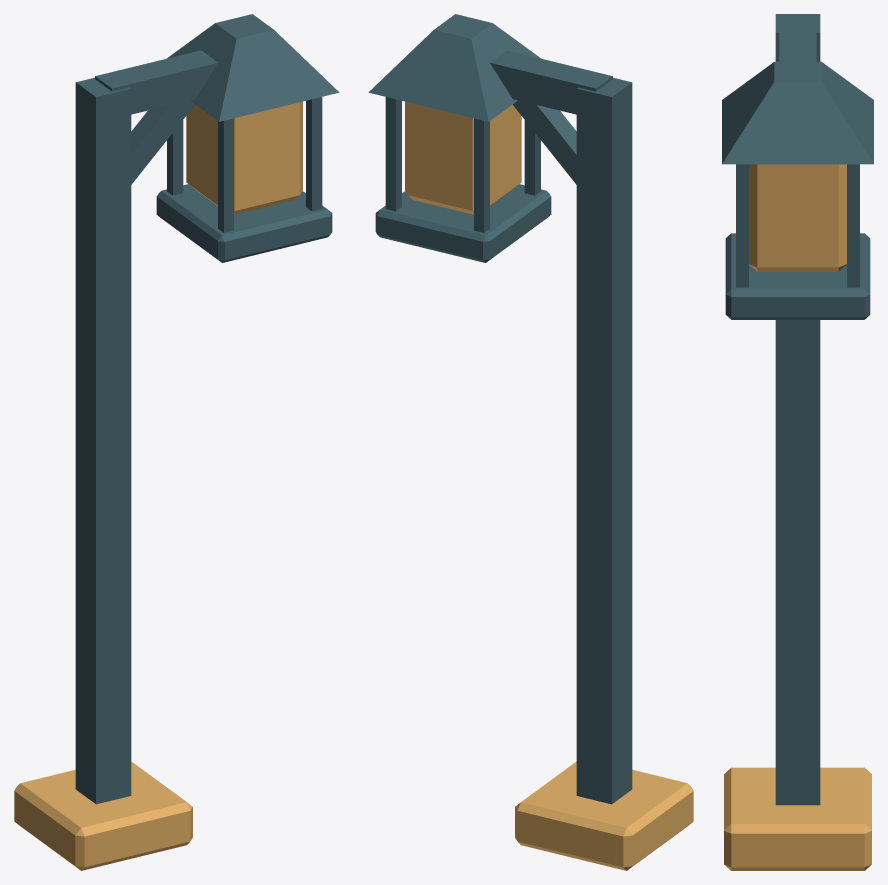
The model's file is AC_Street_Lantern.glb.
3 renders of one model, left to right at view 1: azimuth 30°, elevation 25°; view 2: azimuth 150°, elevation 25°; view 3: azimuth 270°, elevation 25°, orthographic. The views are drawn at different scales.
Parts seen in each view (by area): view 1: AC_Street_Lantern; view 2: AC_Street_Lantern; view 3: AC_Street_Lantern.
Boxes of the visible parts, x1=… form: AC_Street_Lantern: x1=14, y1=14, x2=339, y2=870; AC_Street_Lantern: x1=368, y1=14, x2=693, y2=870; AC_Street_Lantern: x1=722, y1=14, x2=873, y2=870.
Bounding box in the file's own units: 0.8851 × 2.52 × 0.4101.
